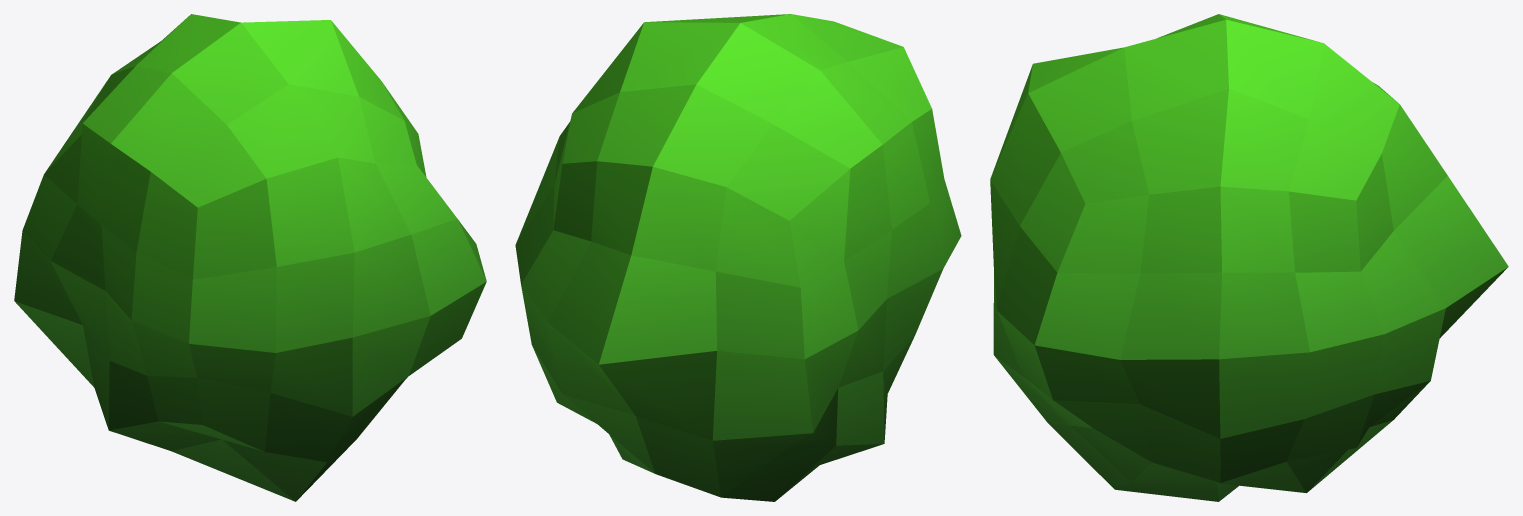
The model's file is Bush_Large.fbx.
3 views of the same model, side by side, from view 1: azimuth 30°, elevation 25°; view 2: azimuth 150°, elevation 25°; view 3: azimuth 270°, elevation 25° (orthographic). The views are drawn at different scales.
Parts seen in each view (by area): view 1: Bush_Large; view 2: Bush_Large; view 3: Bush_Large.
Part boxes in pixels (x1,y1,x2,y2): Bush_Large: (14,14,486,501); Bush_Large: (515,14,961,501); Bush_Large: (990,14,1508,501).
Bounding box in the file's own units: 301 × 383 × 377.
1 material, 1 textured.
